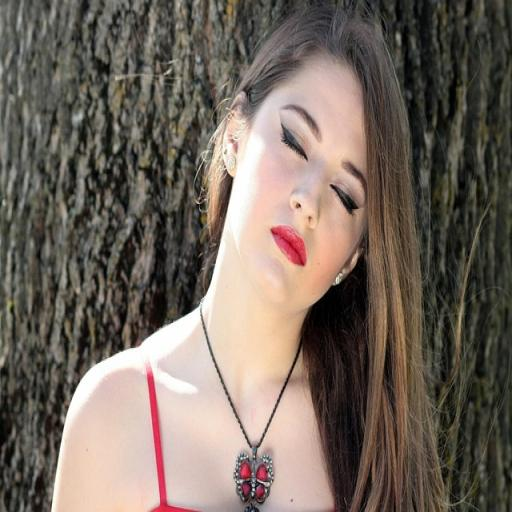lipstick: (272, 226, 307, 266)
